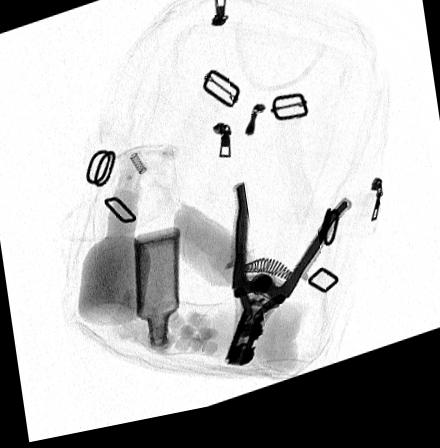Pliers: (223, 190, 351, 377)
